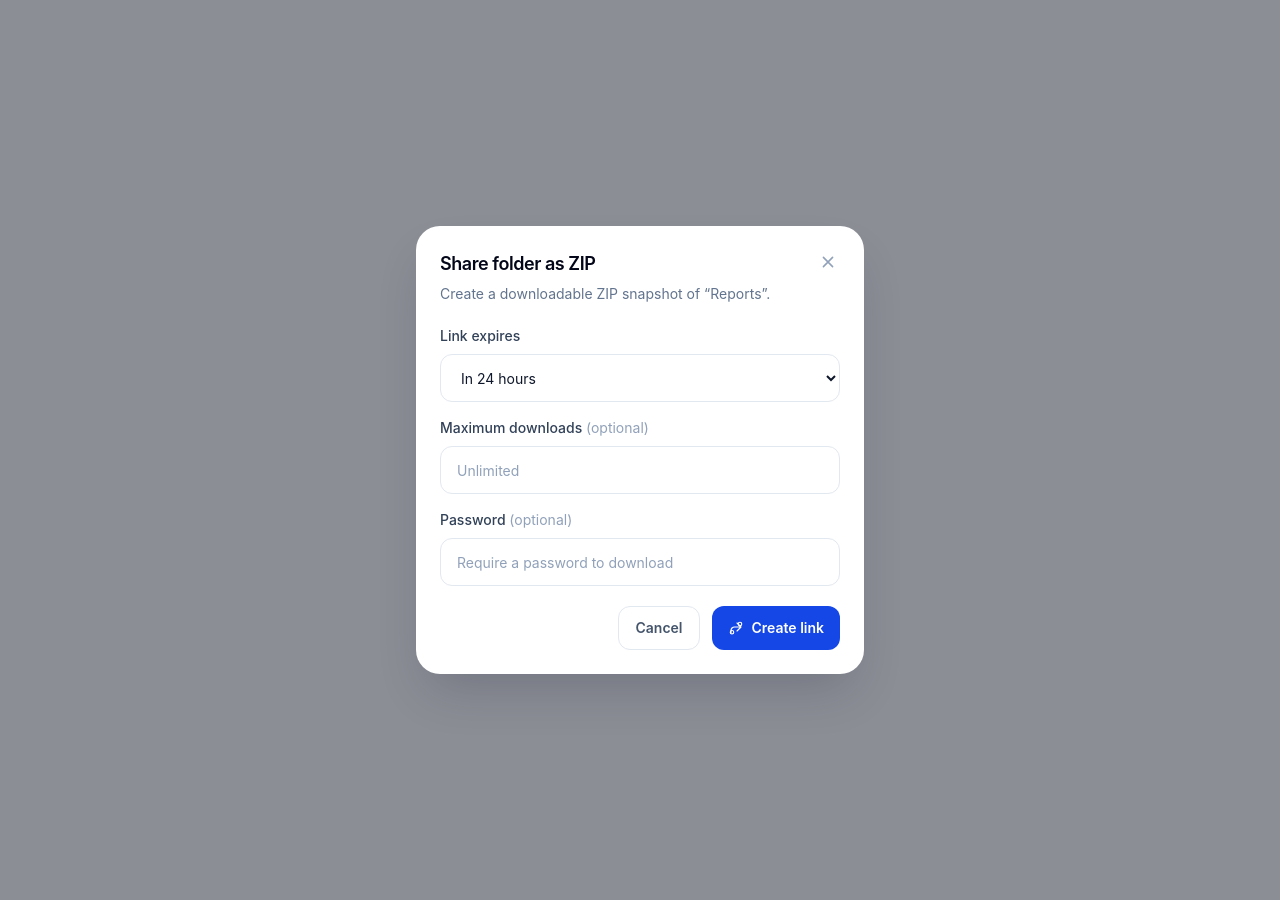
Test case: queues a folder ZIP and opens its status list instead of showing an incomplete link
The width and height of the screenshot is (1280, 900).
Later steps or results of the test are not shown.
In the password field labelled "Password (optional)": (640, 562) x1=440 y1=538 x2=840 y2=586, type "private"
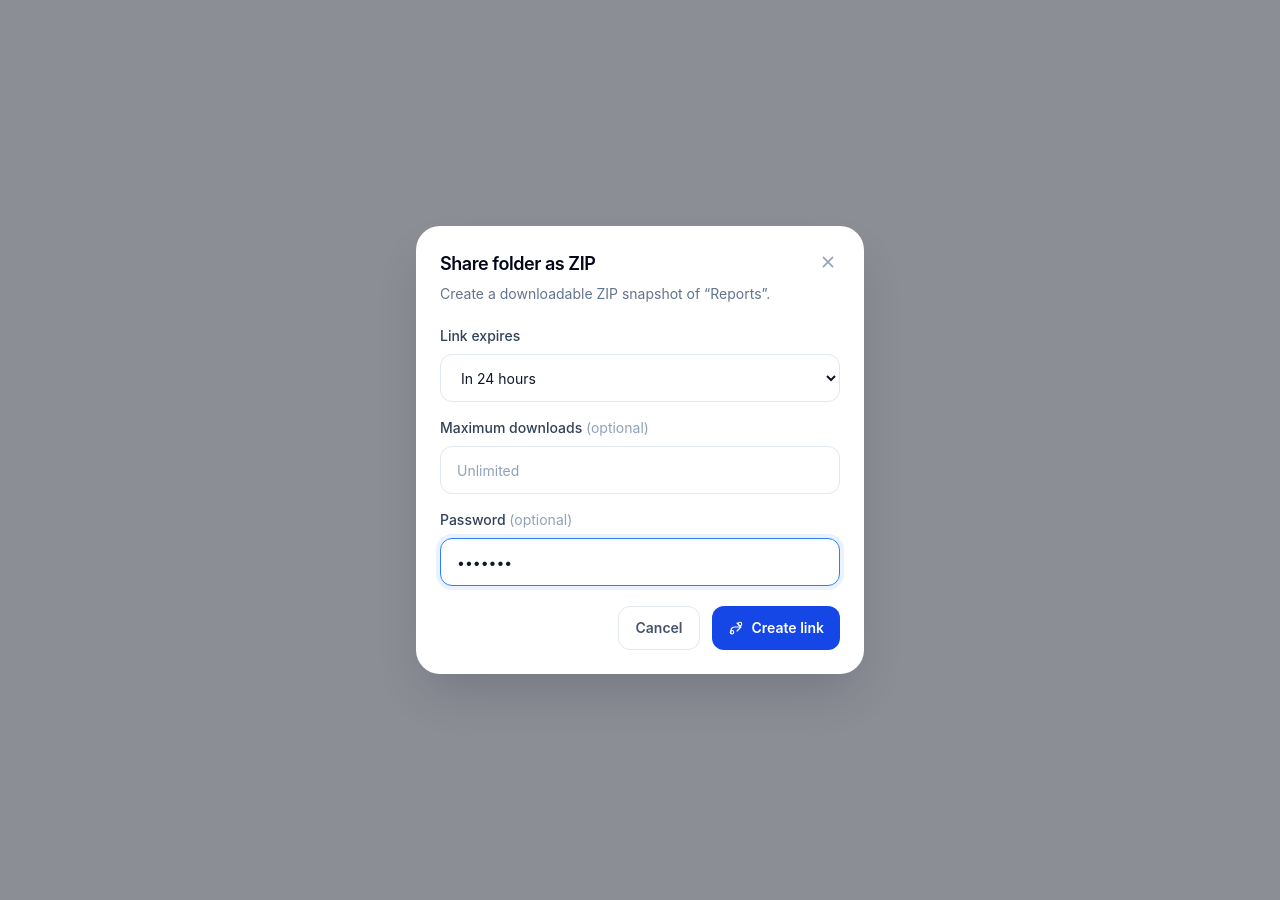
Click the button "Create link": (776, 628) x1=712 y1=606 x2=840 y2=650
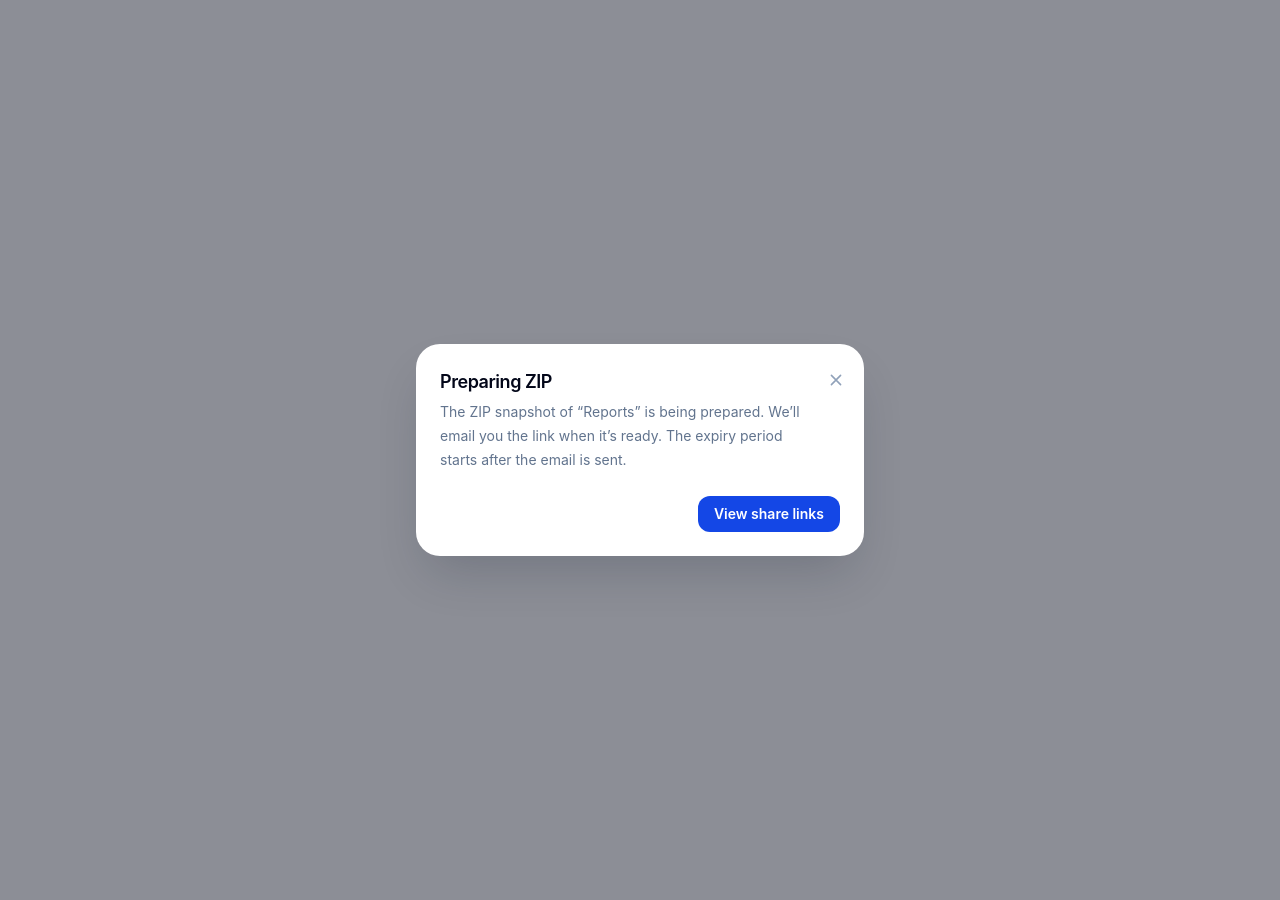
Expected: the dialog "Preparing ZIP" is shown, x1=416 y1=344 x2=864 y2=556
